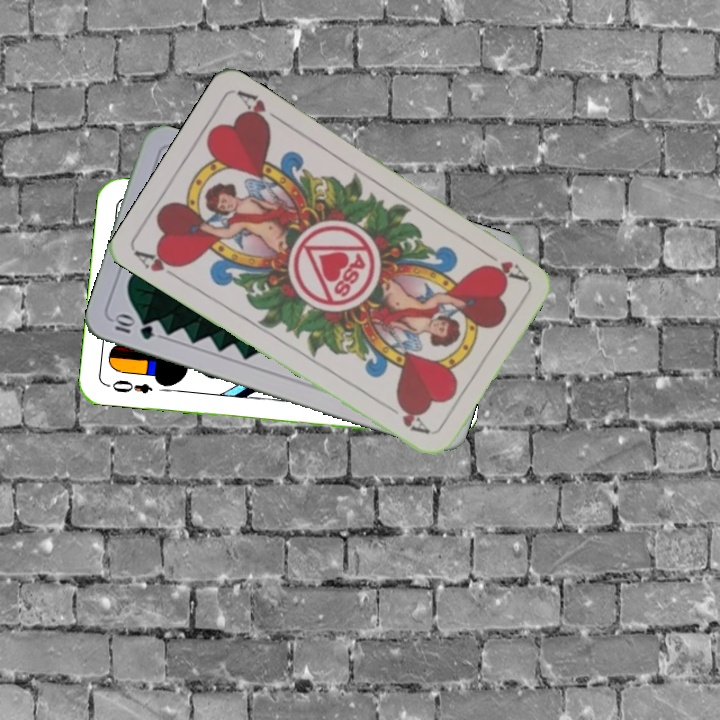EO: (103, 376, 155, 396)
G10: (109, 311, 157, 343)
HA: (131, 246, 186, 285), (476, 245, 529, 284)
